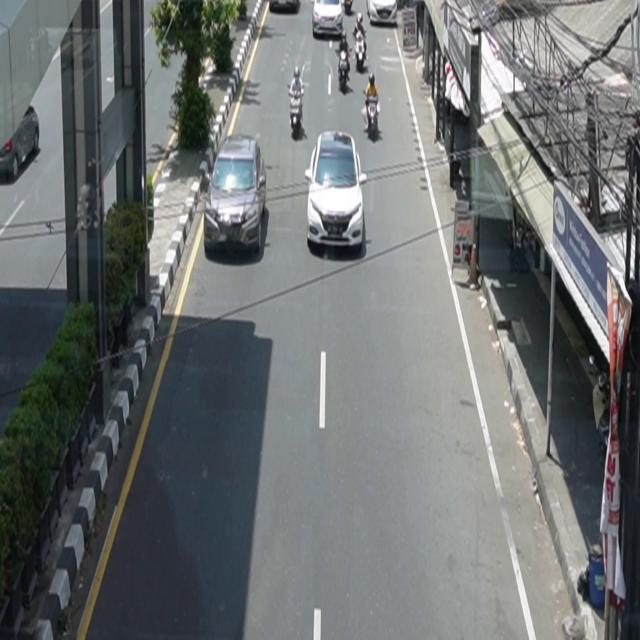car: (204, 134, 268, 255), (306, 130, 368, 252), (367, 1, 398, 26)
